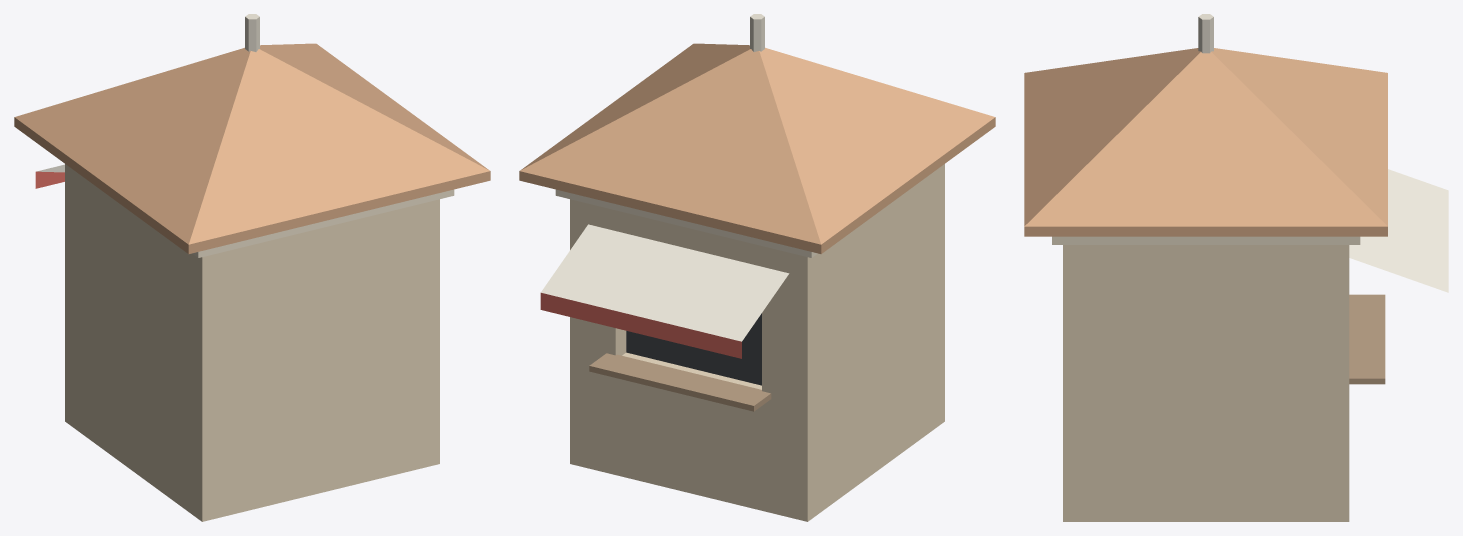
File: SM_BM_BHip_Kiosk.glb
3 views of the same model, side by side, from view 1: azimuth 30°, elevation 25°; view 2: azimuth 150°, elevation 25°; view 3: azimuth 270°, elevation 25° (orthographic). The views are drawn at different scales.
Visible parts, largest first — view 1: SM_BM_BHip_Kiosk; view 2: SM_BM_BHip_Kiosk; view 3: SM_BM_BHip_Kiosk.
Boxes of the visible parts, x1,y1,x2,y2 form: SM_BM_BHip_Kiosk: [14, 14, 490, 521]; SM_BM_BHip_Kiosk: [519, 14, 995, 521]; SM_BM_BHip_Kiosk: [1024, 14, 1448, 521].
Bounding box in the file's own units: 3.3 × 4.45 × 3.85.
